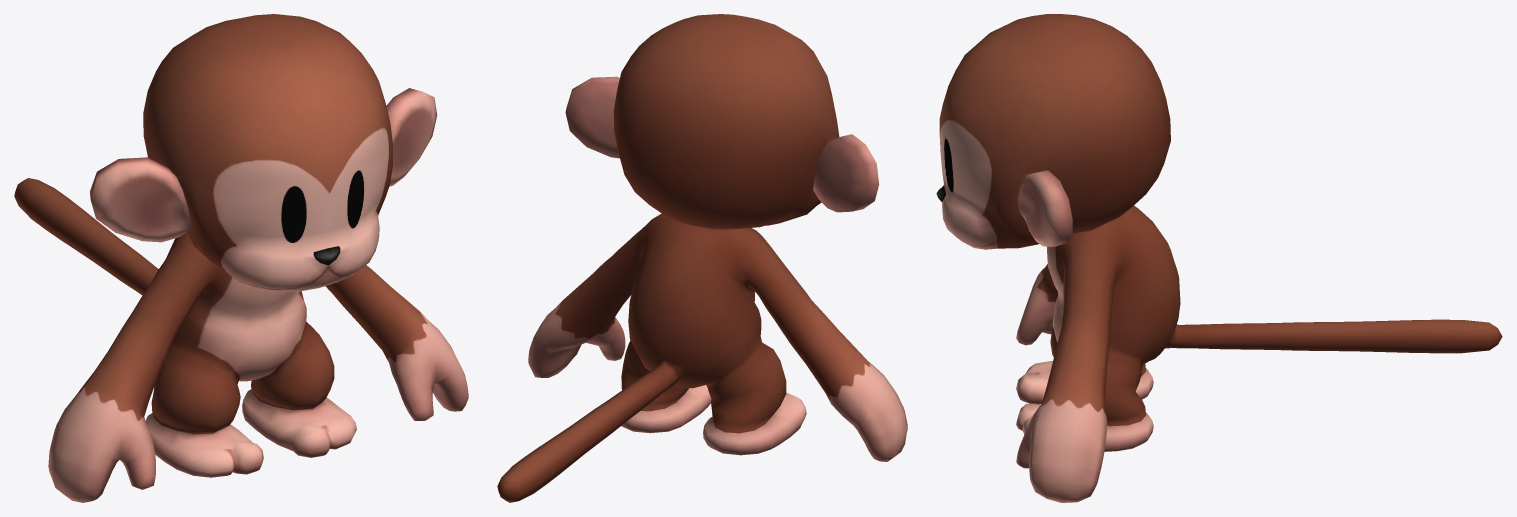
File: Mono.obj
The picture shows the model from 3 angles, left to right: view 1: azimuth 30°, elevation 25°; view 2: azimuth 150°, elevation 25°; view 3: azimuth 270°, elevation 25°; orthographic projection. The views are drawn at different scales.
Visible parts, largest first — view 1: body_low__MI_body, head_low__MI_body, head_low__MI_eye; view 2: body_low__MI_body, head_low__MI_body; view 3: head_low__MI_body, body_low__MI_body, head_low__MI_eye.
Part boxes in pixels (<box>): body_low__MI_body: <box>14,178,468,502</box>; head_low__MI_body: <box>90,14,437,291</box>; head_low__MI_eye: <box>266,164,373,252</box>; body_low__MI_body: <box>497,213,907,502</box>; head_low__MI_body: <box>565,14,879,229</box>; head_low__MI_body: <box>936,14,1170,249</box>; body_low__MI_body: <box>1016,205,1502,502</box>; head_low__MI_eye: <box>939,125,958,201</box>.
Size of the model in its own units: 1.07 by 1.1 by 1.44.
